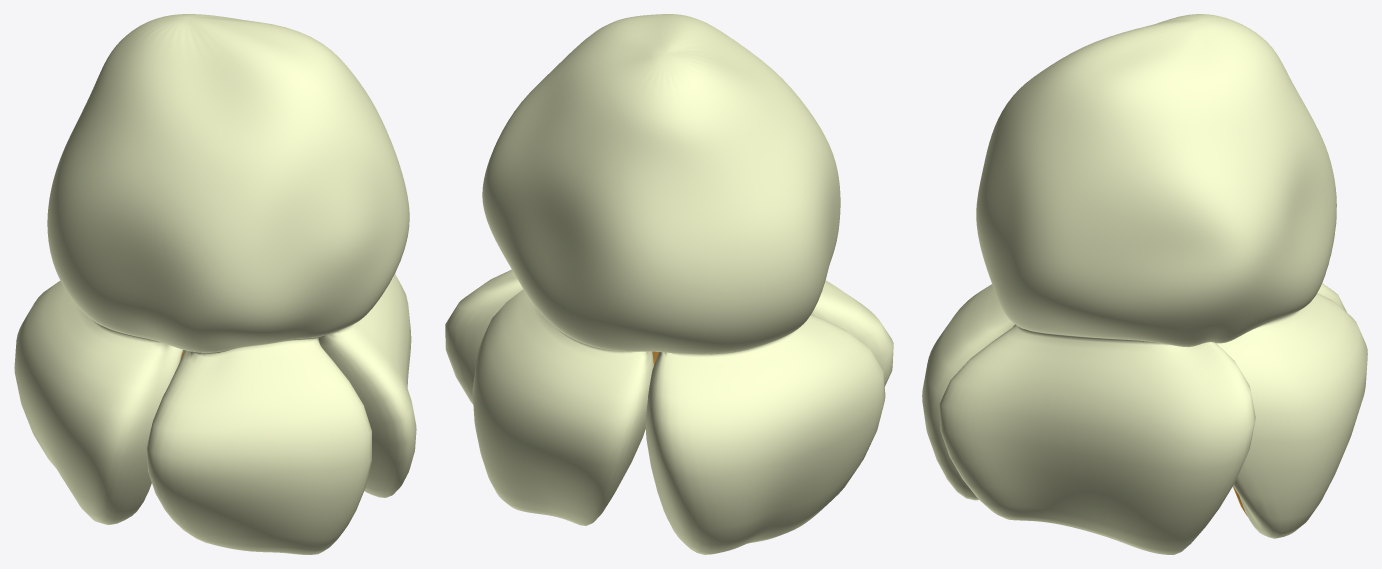
File: popcorn-kernel.glb
3 views of the same model, side by side, from view 1: azimuth 30°, elevation 25°; view 2: azimuth 150°, elevation 25°; view 3: azimuth 270°, elevation 25° (orthographic). The views are drawn at different scales.
Parts seen in each view (by area): view 1: Sphere.001; view 2: Sphere.001; view 3: Sphere.001.
Boxes of the visible parts, box(x1,y1,x2,y2) form: Sphere.001: box(14, 14, 416, 554); Sphere.001: box(445, 14, 893, 554); Sphere.001: box(922, 14, 1367, 554).
Size of the model in its own units: 2.16 by 2.61 by 2.2.
